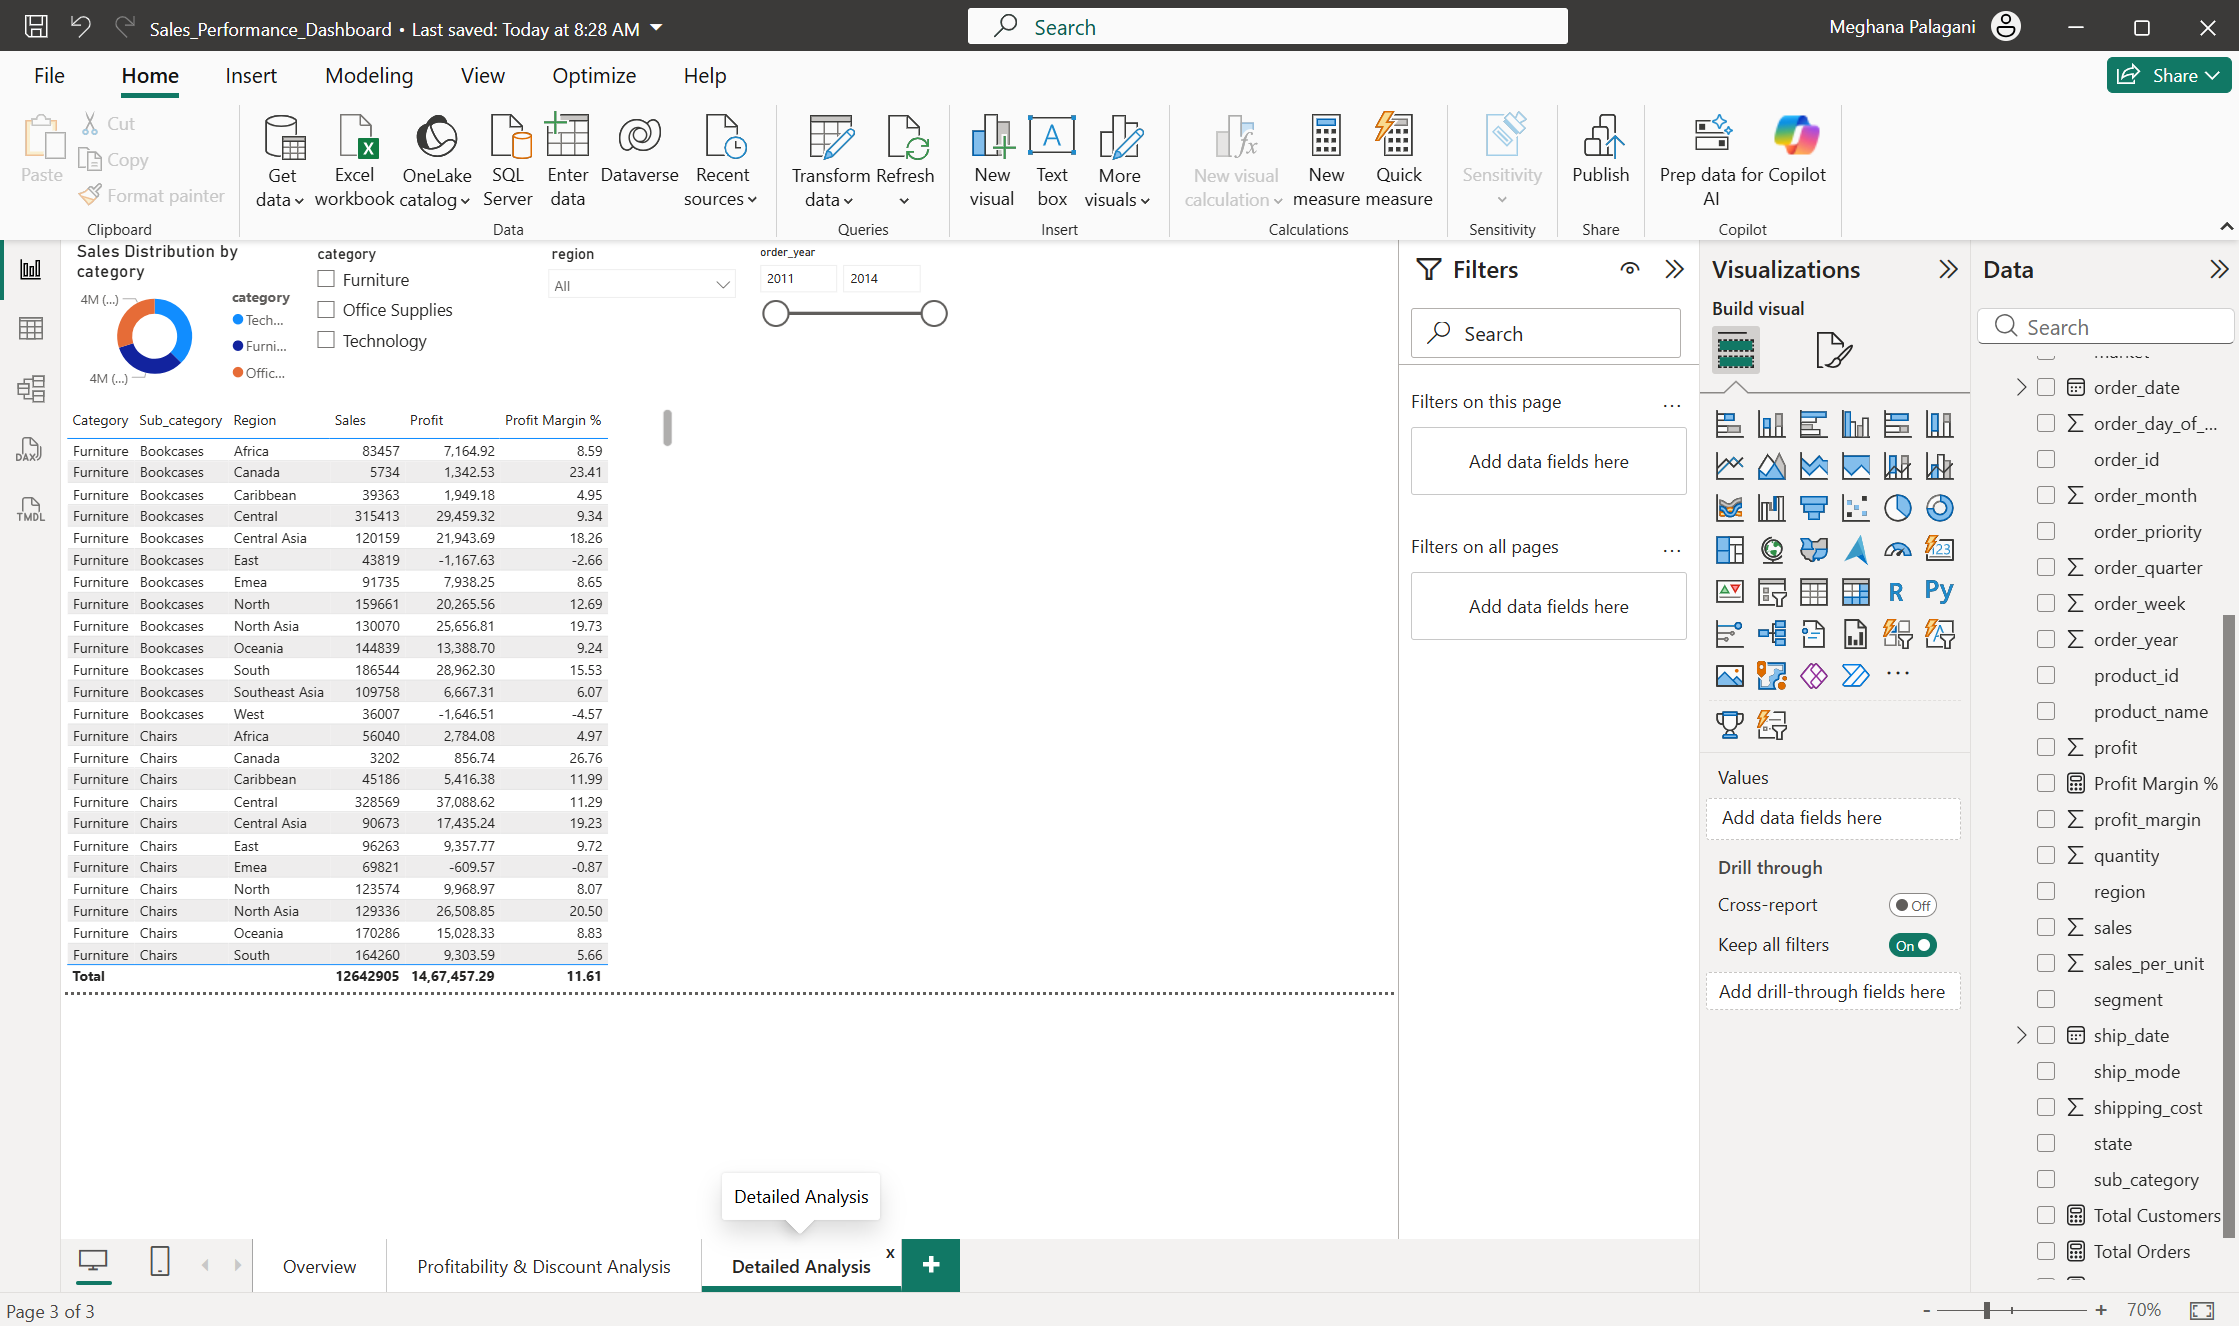

The dashboard page shown, as its layout file describes it:
{"tool":"powerbi","page":{"name":"Detailed Analysis","canvas":[1280,720],"ordinal":2},"visuals":[{"type":"donutChart","title":"Sales Distribution by category","fields":{"Y":["Sum(superstore_cleaned_complete.sales)"],"Category":["superstore_cleaned_complete.category"]},"box":[10.1,0,222.6,145],"z":0},{"type":"tableEx","fields":{"Values":["superstore_cleaned_complete.category","superstore_cleaned_complete.sub_category","superstore_cleaned_complete.region","Sum(superstore_cleaned_complete.sales)","Sum(superstore_cleaned_complete.profit)","superstore_cleaned_complete.Profit Margin %"]},"box":[0,156.5,590.2,562.9],"z":1000},{"type":"slicer","fields":{"Values":["superstore_cleaned_complete.category"]},"box":[232.6,0,224,145],"z":2000},{"type":"slicer","fields":{"Values":["superstore_cleaned_complete.region"]},"box":[456.7,0,199.6,145],"z":3000},{"type":"slicer","fields":{"Values":["superstore_cleaned_complete.order_year"]},"box":[656.3,0,201,145],"z":4000}]}

Visuals, with their boxes on the page's 1280x720 design canvas (x1, y1, x2, y2). These are canvas units, not pixel positions in the 2239x1326 screenshot, which may show the page scaled, cropped or inside an application window:
"Sales Distribution by category" donutChart: (x1=10, y1=0, x2=233, y2=145)
tableEx - superstore_cleaned_complete.category x superstore_cleaned_complete.sub_category: (x1=0, y1=156, x2=590, y2=719)
slicer - superstore_cleaned_complete.category: (x1=233, y1=0, x2=457, y2=145)
slicer - superstore_cleaned_complete.region: (x1=457, y1=0, x2=656, y2=145)
slicer - superstore_cleaned_complete.order_year: (x1=656, y1=0, x2=857, y2=145)
